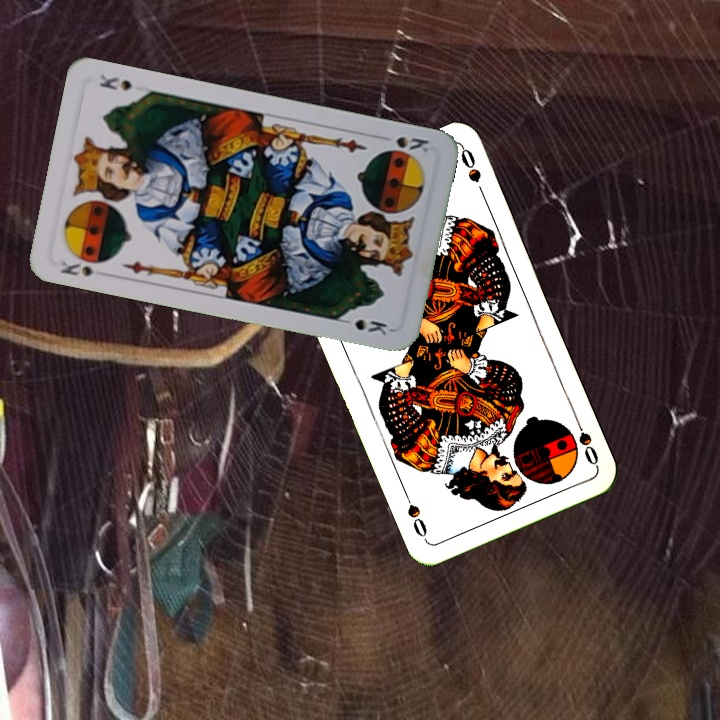SK: (56, 250, 111, 280), (392, 132, 432, 155)
SO: (570, 412, 601, 468)
